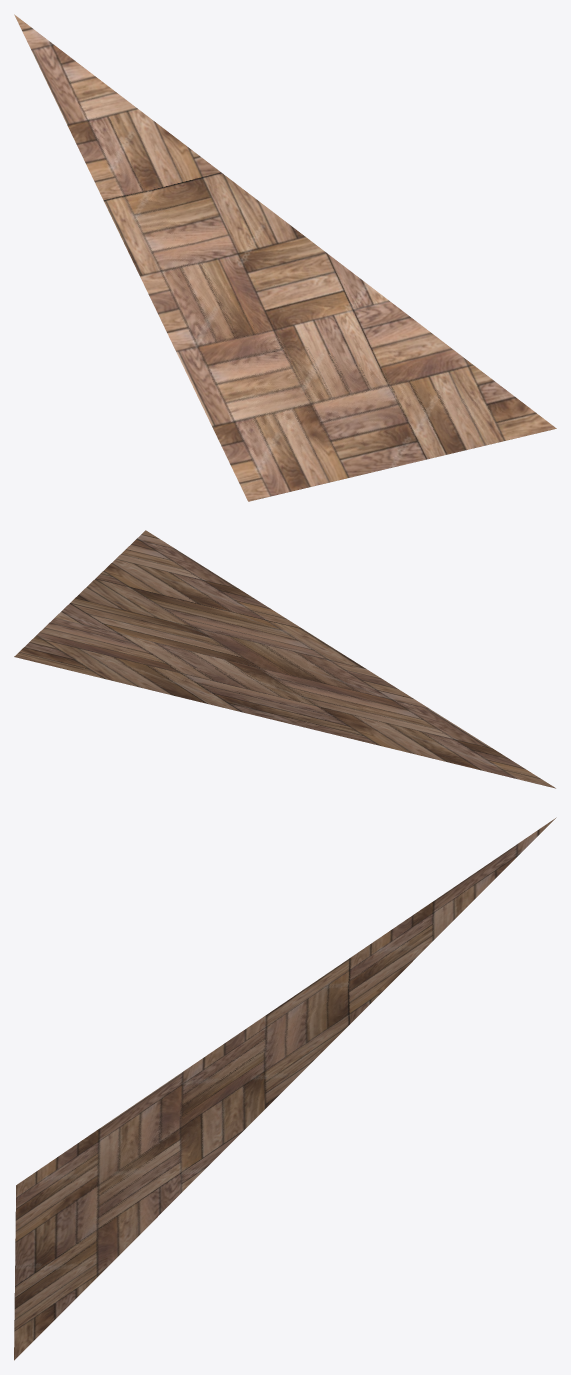
Rendered from triangulo.fbx.
3 renders of one model, top to bottom at view 1: azimuth 30°, elevation 25°; view 2: azimuth 150°, elevation 25°; view 3: azimuth 270°, elevation 25°, orthographic. The views are drawn at different scales.
Parts seen in each view (by area): view 1: Triangle; view 2: Triangle; view 3: Triangle.
Part boxes in pixels (bbox=[...]): Triangle: bbox=[14, 14, 556, 501]; Triangle: bbox=[14, 530, 555, 788]; Triangle: bbox=[14, 817, 556, 1360].
Bounding box in the file's own units: 91.31 × 90 × 120.
